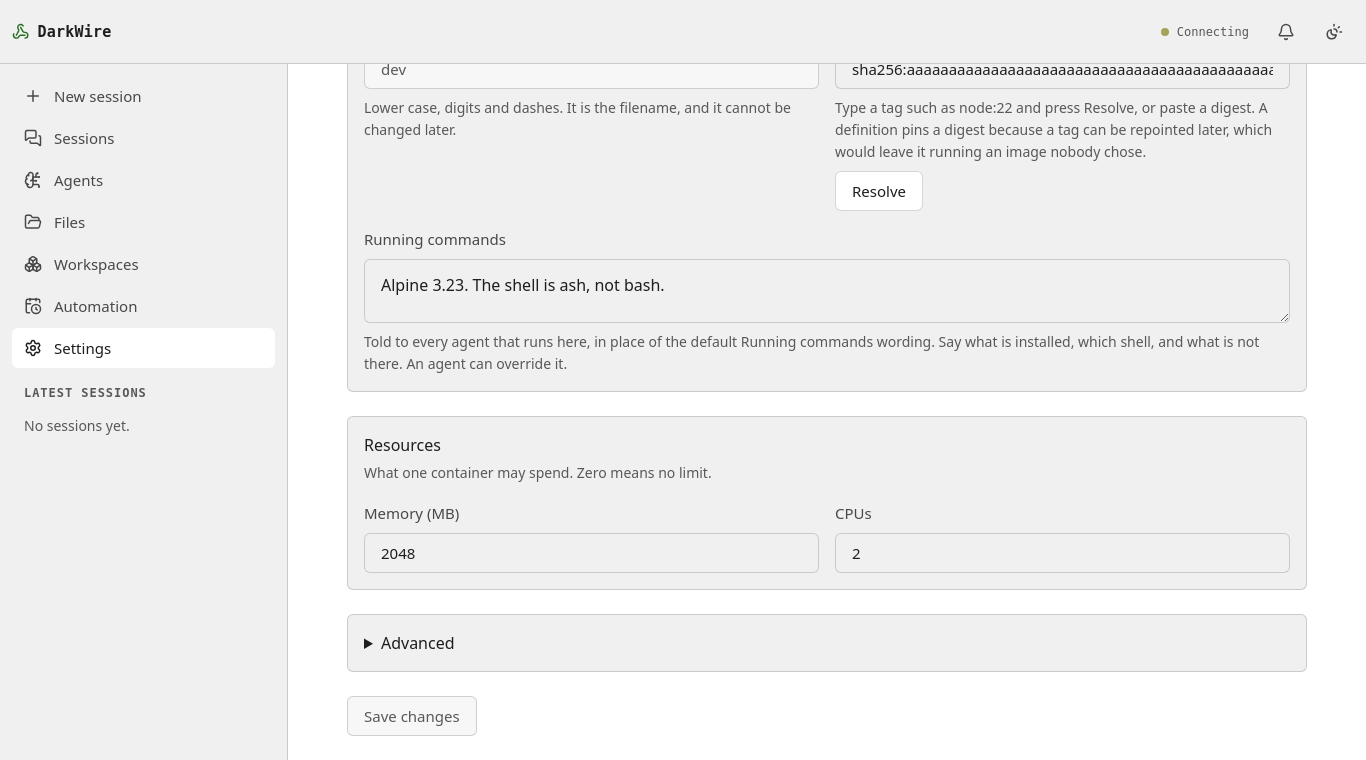
Test case: the environment editor › refuses a max-processes box that is not a number
(page scrolled)
Click the heading "Advanced" at coordinates (418, 643), box top-left (381, 632), bottom-right (454, 654)
(page scrolled)
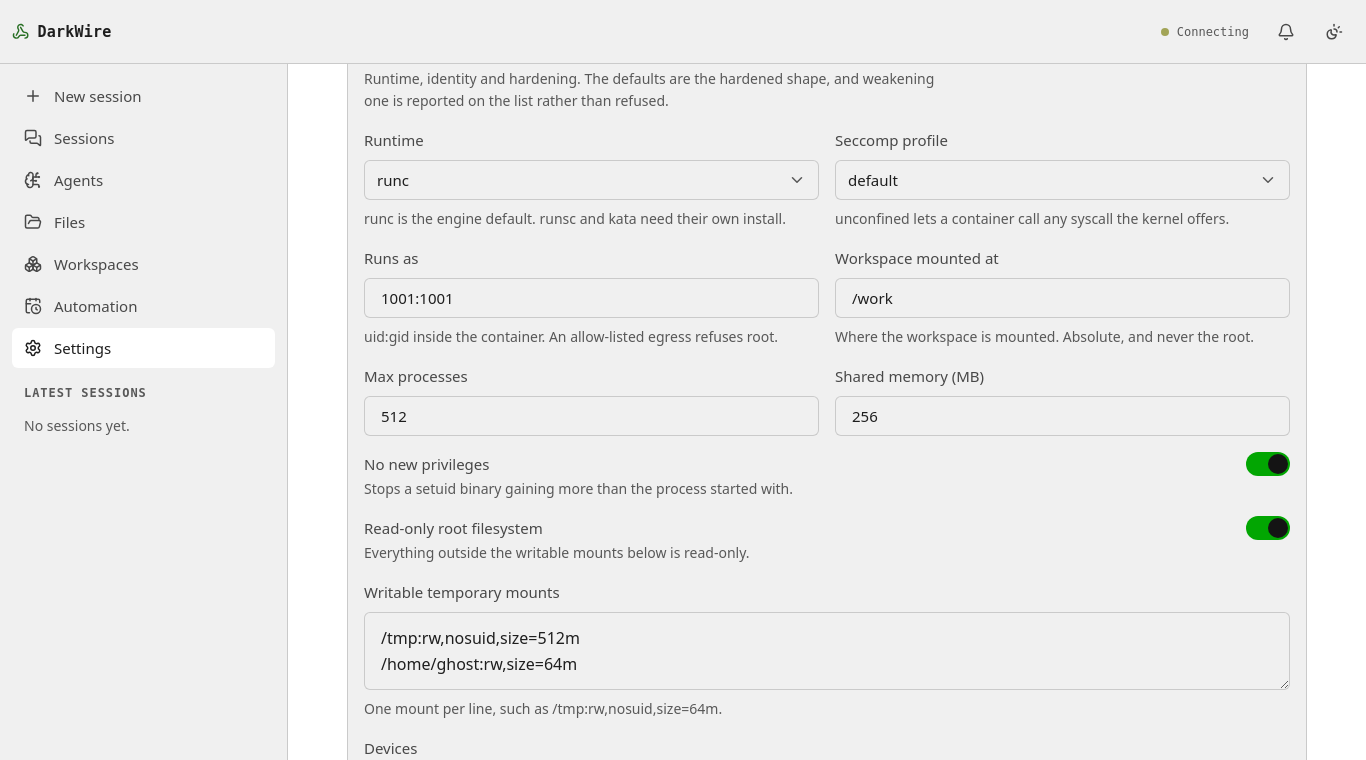
Replace the text in the field labelled "Max processes" with "lots" at coordinates (592, 416), box top-left (364, 396), bottom-right (819, 436)
(page scrolled)
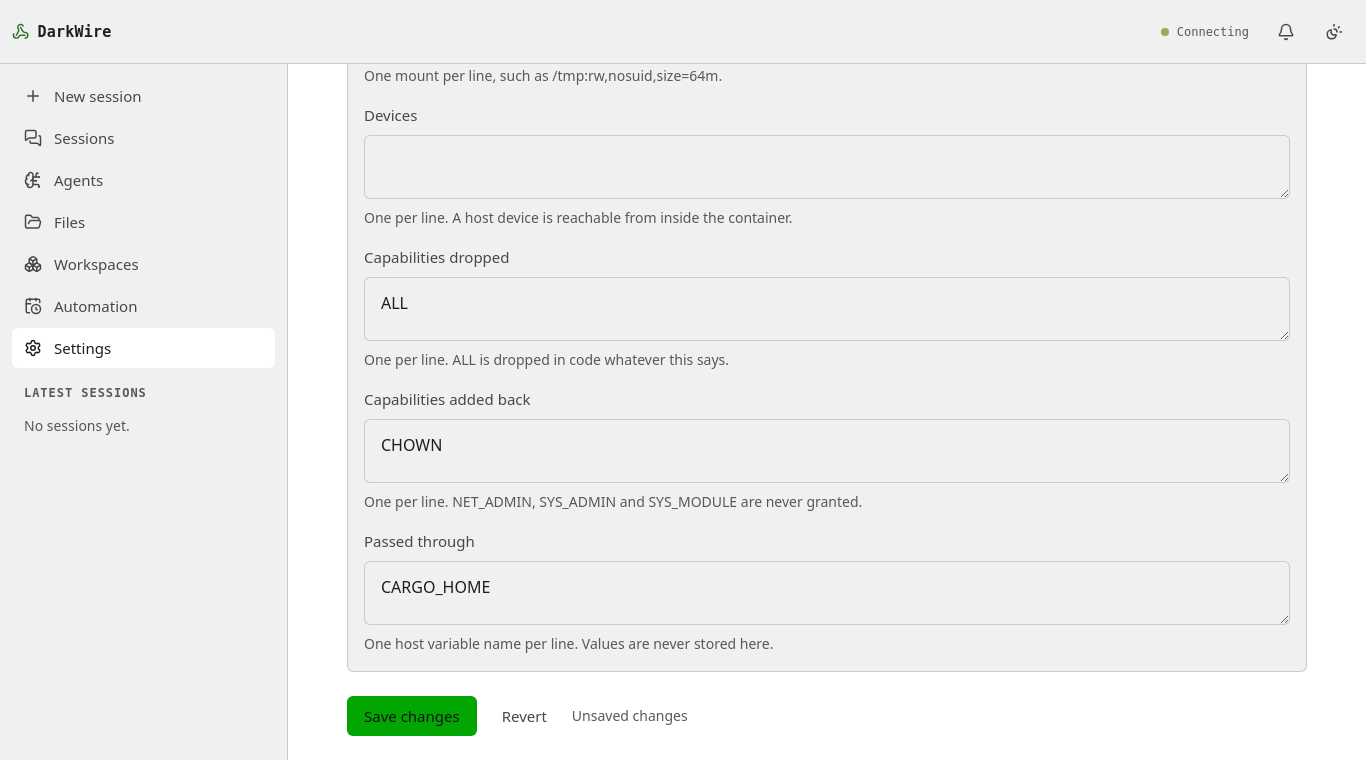
Click the button "Save changes" at coordinates (412, 716), box top-left (347, 696), bottom-right (477, 736)
(page scrolled)
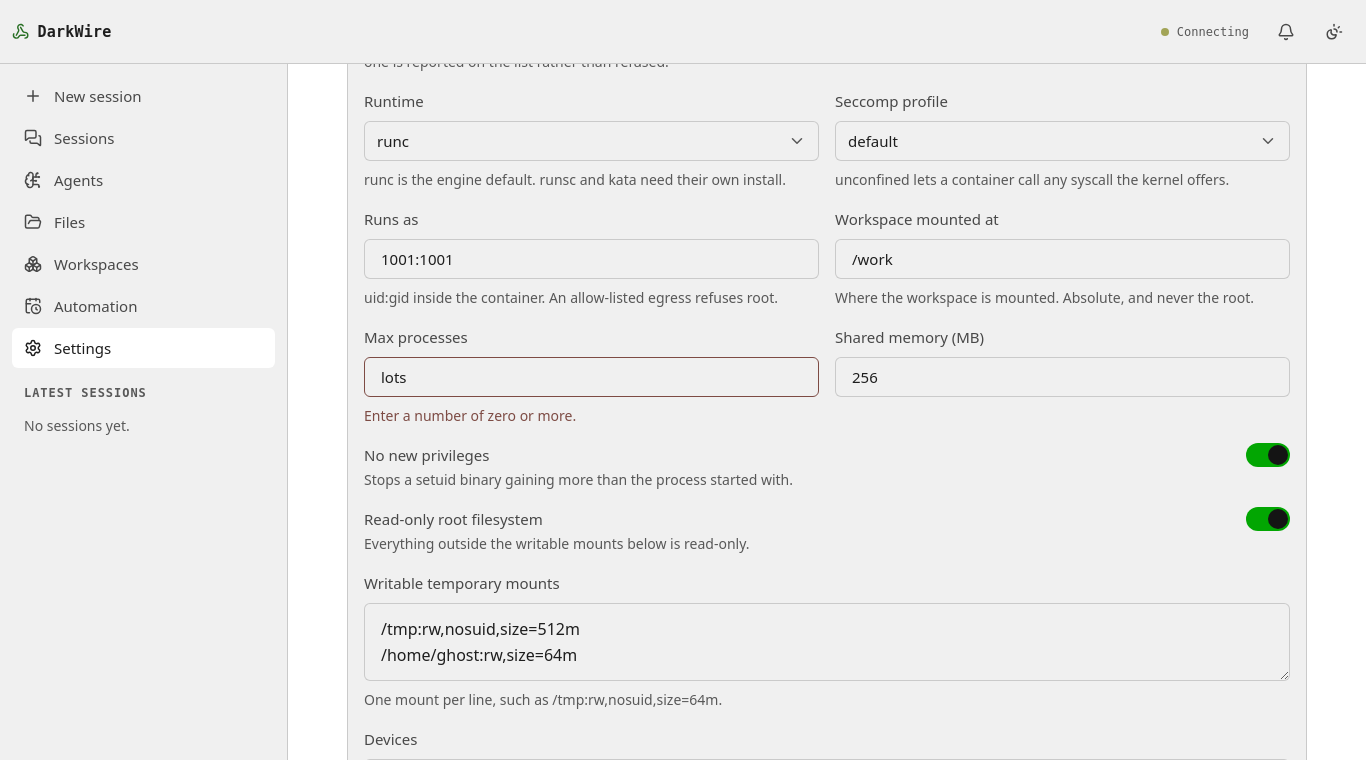
Check: the text "Enter a number of zero or more." is shown, box top-left (364, 406), bottom-right (576, 425)
